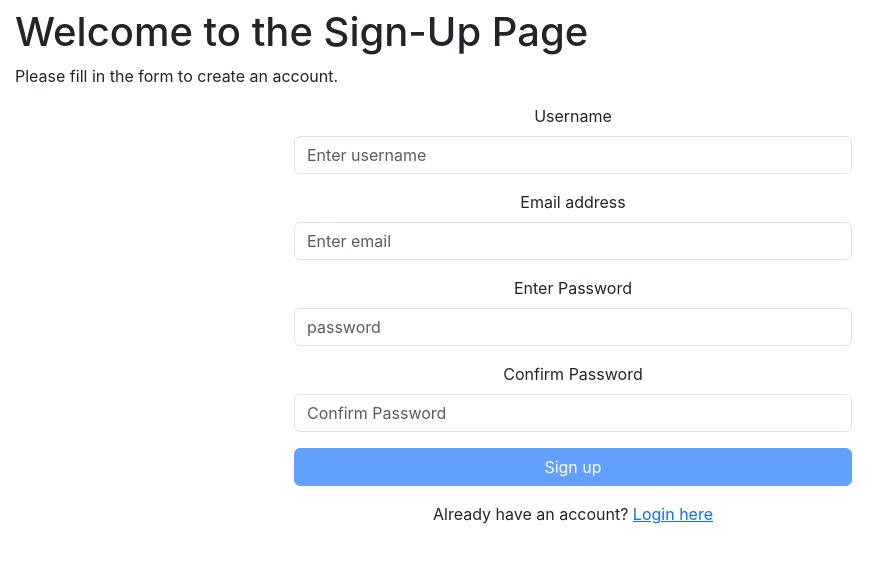
Test: Password Complexity Validation › displays error for password with no uppercase
Step 1. Type "lowercase1!" into the password field labelled "Enter Password" → (573, 327), box [294,308,852,346]
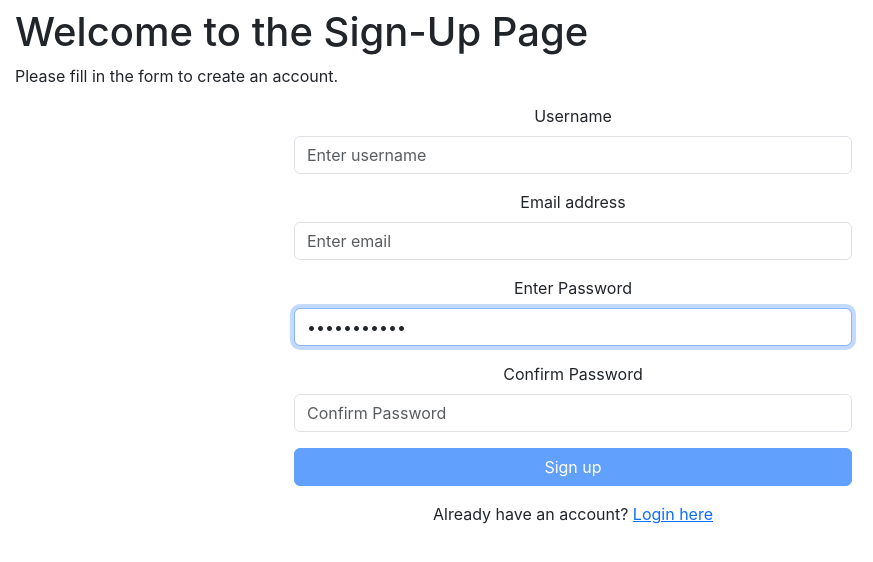
Step 2. Type "lowercase1!" into the password field labelled "Confirm Password" → (573, 413), box [294,394,852,432]
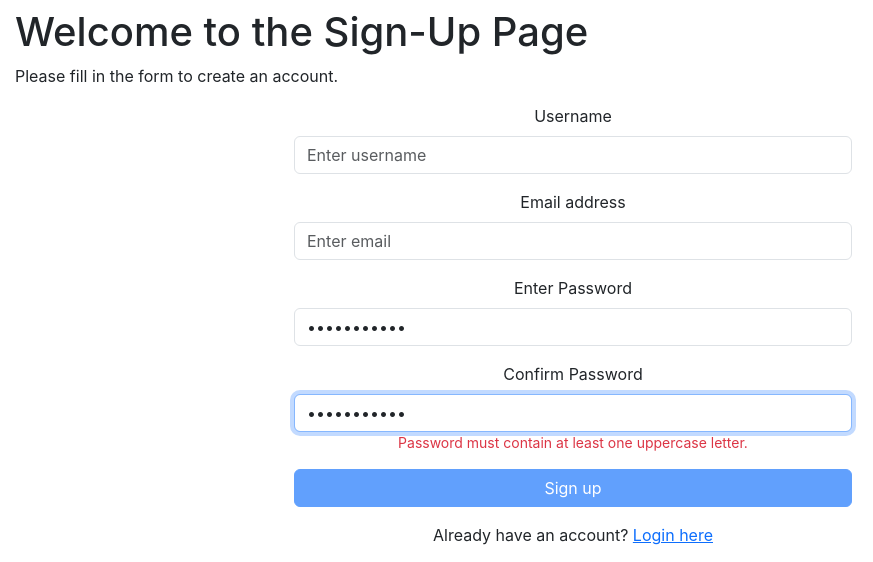
Result: the text "Password must contain at least one uppercase letter." is shown at [398,434,748,451]
